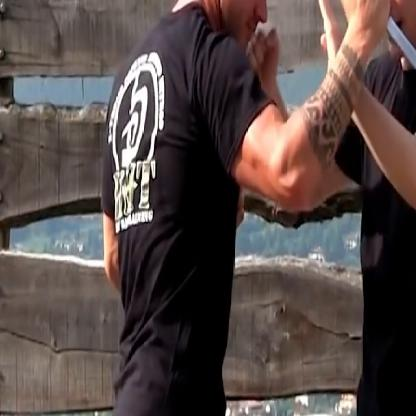knife: (338, 0, 416, 96)
